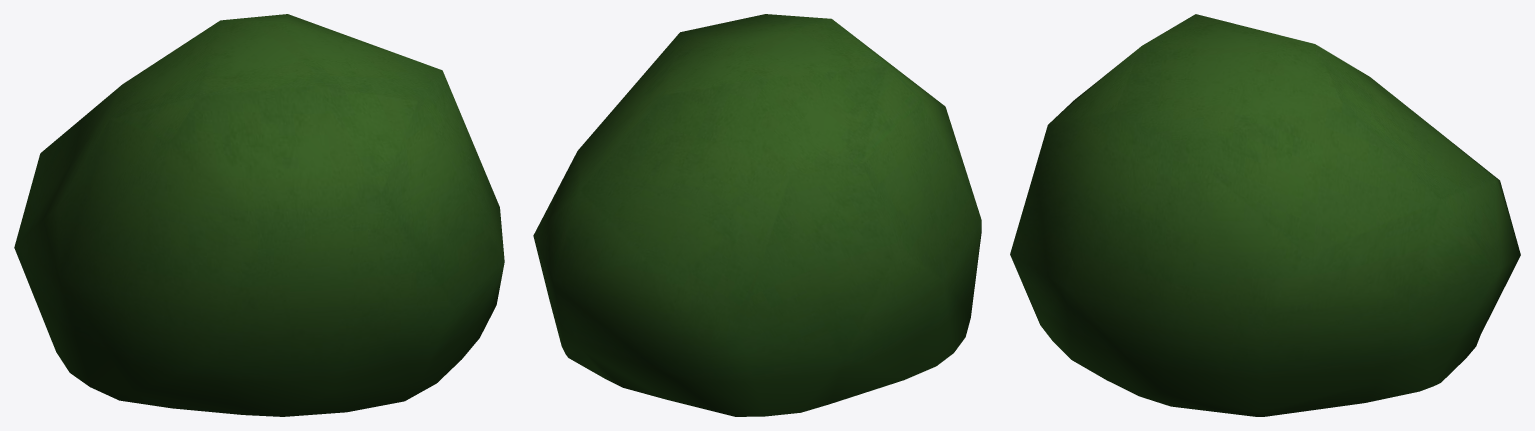
Rendered from Bush2.fbx.
3 renders of one model, left to right at view 1: azimuth 30°, elevation 25°; view 2: azimuth 150°, elevation 25°; view 3: azimuth 270°, elevation 25°, orthographic. The views are drawn at different scales.
Visible parts, largest first — view 1: Bush2; view 2: Bush2; view 3: Bush2.
Part boxes in pixels (x1,y1,x2,y2): Bush2: [14, 14, 504, 416]; Bush2: [533, 14, 981, 416]; Bush2: [1010, 14, 1520, 416].
Size of the model in its own units: 266 by 184 by 302.
